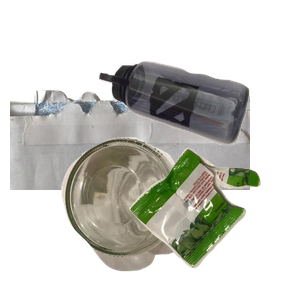glass: (59, 135, 254, 300)
paper: (10, 84, 250, 264)
plastic: (97, 59, 300, 197)
trash: (127, 146, 300, 300)
